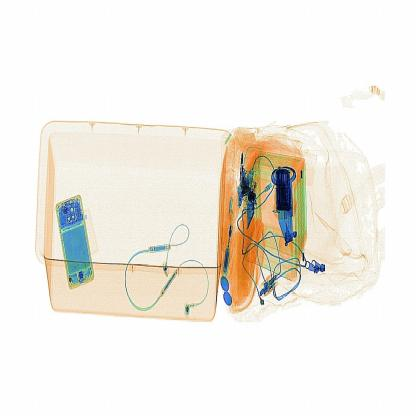scissors: (269, 164, 302, 222)
